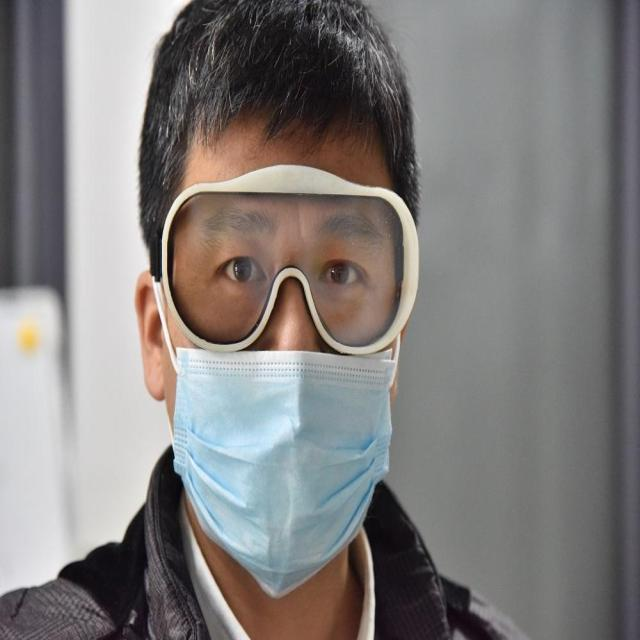Goggles: (161, 156, 421, 358)
Mask: (174, 337, 394, 587)
